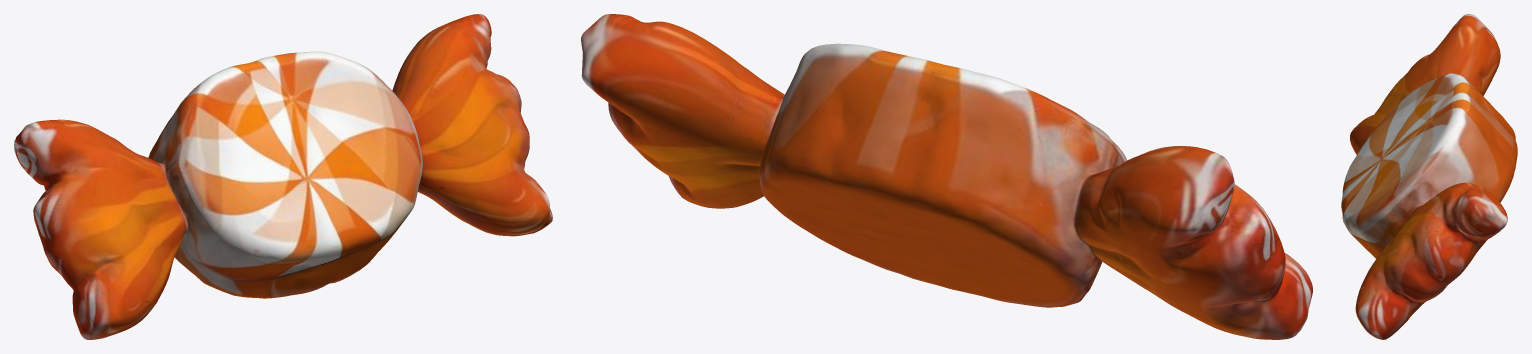
The picture shows the model from 3 angles, left to right: view 1: azimuth 30°, elevation 25°; view 2: azimuth 150°, elevation 25°; view 3: azimuth 270°, elevation 25°; orthographic projection. The views are drawn at different scales.
Bounding box in the file's own units: 2 × 0.798 × 0.7654.
Materials: 1 (1 with a texture image).
